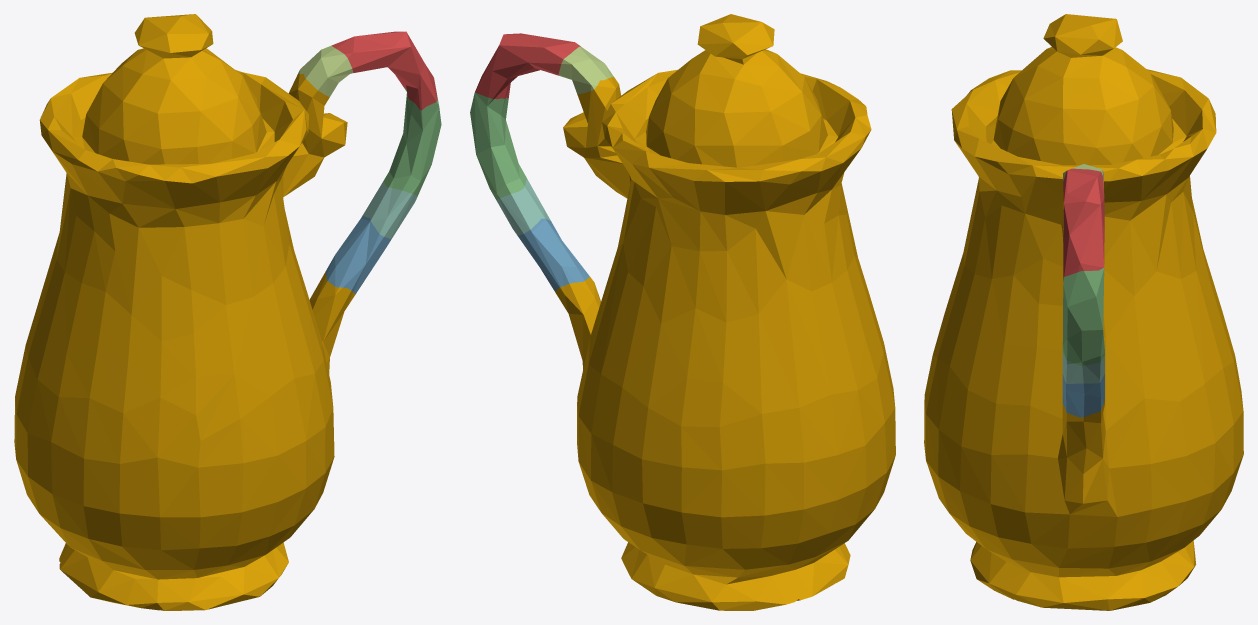
The model's file is fractured_1_6pcs.glb.
3 renders of one model, left to right at view 1: azimuth 30°, elevation 25°; view 2: azimuth 150°, elevation 25°; view 3: azimuth 270°, elevation 25°, orthographic.
Visible parts, largest first — view 1: piece_0.obj, piece_1.obj, piece_3.obj, piece_2.obj, piece_4.obj, piece_5.obj; view 2: piece_0.obj, piece_3.obj, piece_1.obj, piece_2.obj, piece_4.obj, piece_5.obj; view 3: piece_0.obj, piece_1.obj, piece_3.obj, piece_2.obj, piece_4.obj.
Boxes of the visible parts, bbox=[...] form: piece_0.obj: bbox=[14, 14, 355, 610]; piece_1.obj: bbox=[331, 31, 437, 110]; piece_3.obj: bbox=[383, 86, 441, 195]; piece_2.obj: bbox=[325, 215, 391, 293]; piece_4.obj: bbox=[362, 181, 417, 239]; piece_5.obj: bbox=[298, 45, 353, 96]; piece_0.obj: bbox=[555, 14, 895, 610]; piece_3.obj: bbox=[470, 92, 526, 199]; piece_1.obj: bbox=[475, 33, 580, 99]; piece_2.obj: bbox=[517, 218, 589, 291]; piece_4.obj: bbox=[496, 179, 550, 235]; piece_5.obj: bbox=[558, 46, 613, 93]; piece_0.obj: bbox=[924, 14, 1243, 610]; piece_1.obj: bbox=[1063, 168, 1104, 276]; piece_3.obj: bbox=[1062, 268, 1104, 365]; piece_2.obj: bbox=[1062, 373, 1104, 417]; piece_4.obj: bbox=[1062, 351, 1104, 383].
Bounding box in the file's own units: 0.7666 × 1 × 0.5311.
